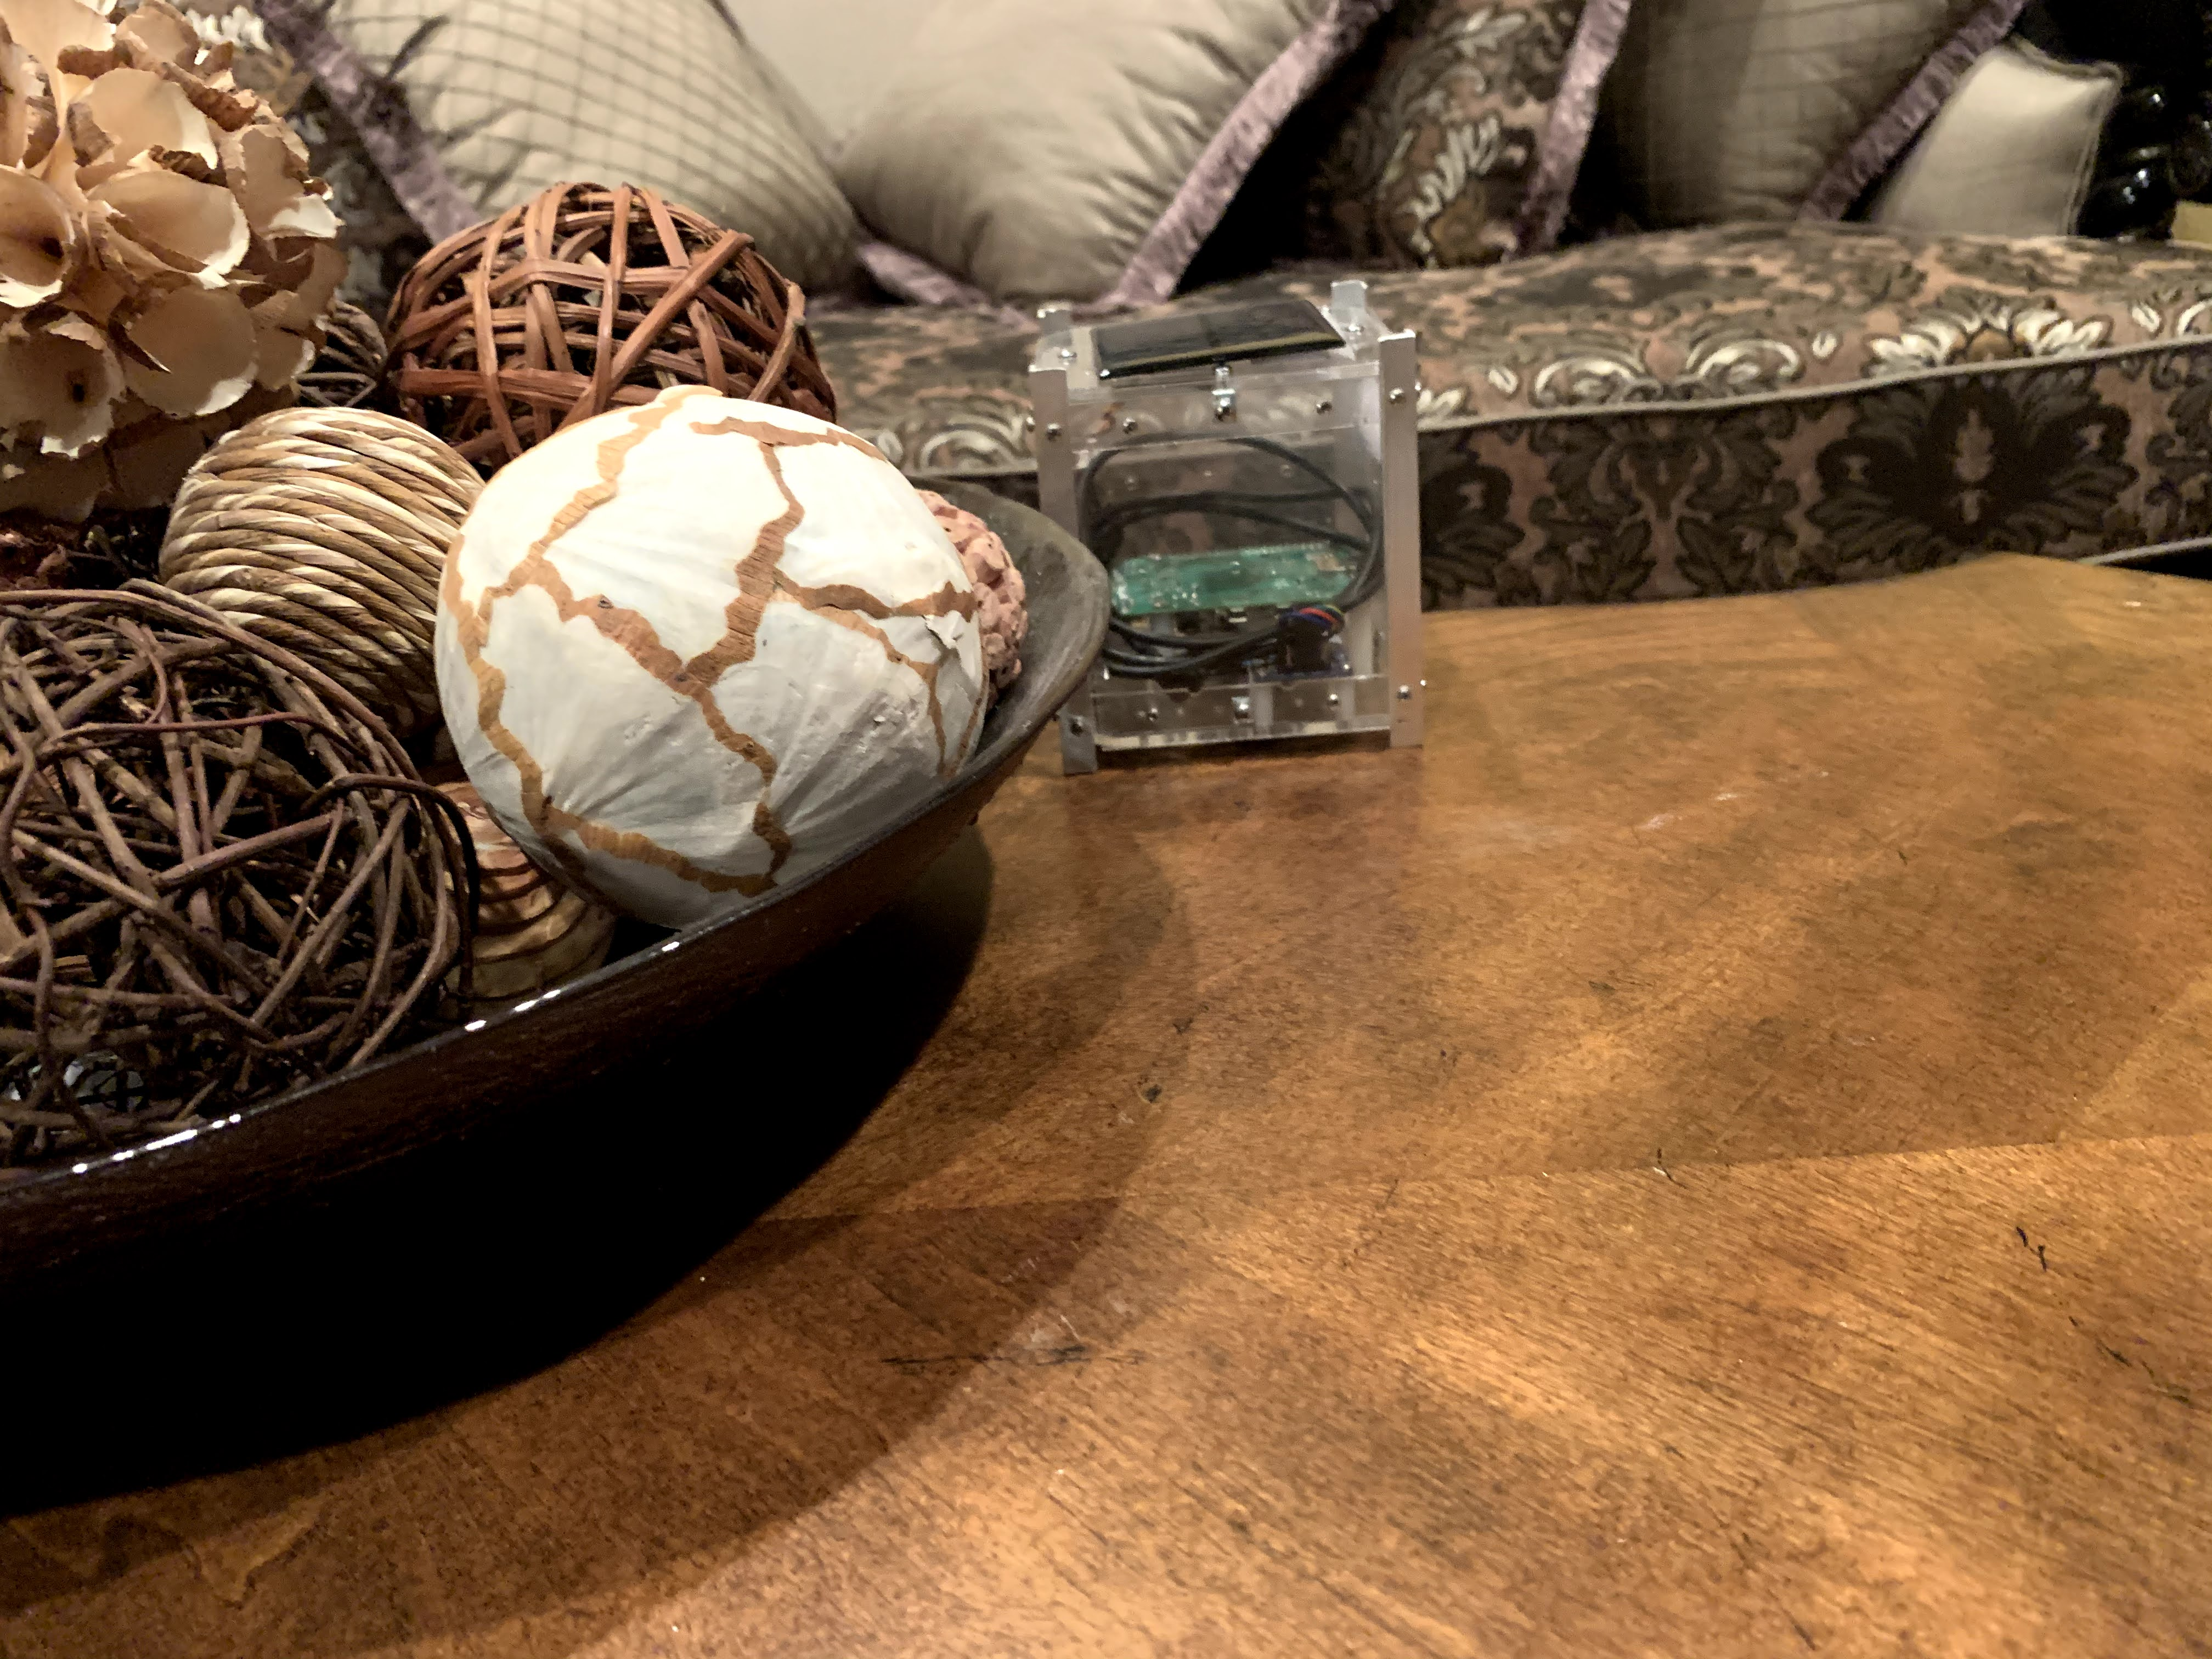Space-debris-cubesat: (1035, 284, 1447, 777)
